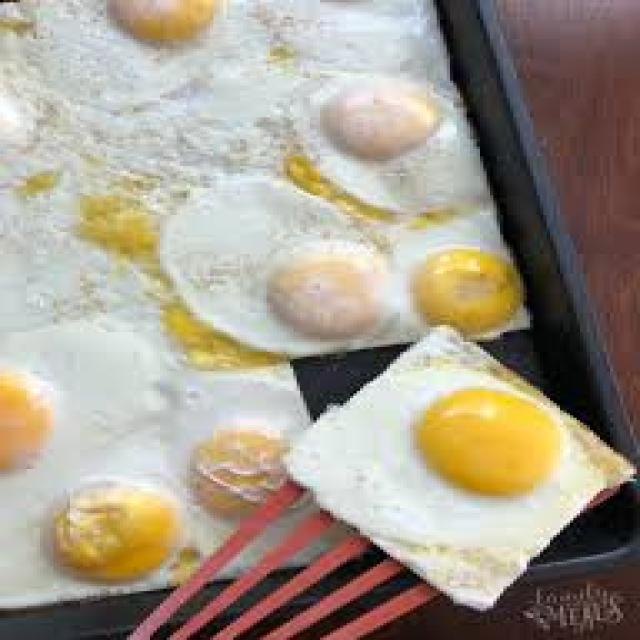Egg: (321, 77, 488, 209)
